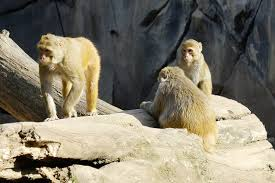monkey: (26, 21, 121, 126), (145, 71, 239, 150), (153, 37, 250, 91)
